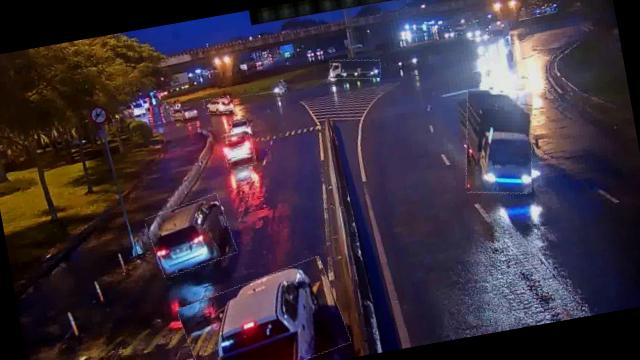Car: (176, 259, 351, 360), (144, 195, 237, 276), (220, 129, 256, 170), (202, 95, 235, 116)
Truck: (454, 82, 546, 200), (328, 52, 382, 84)
